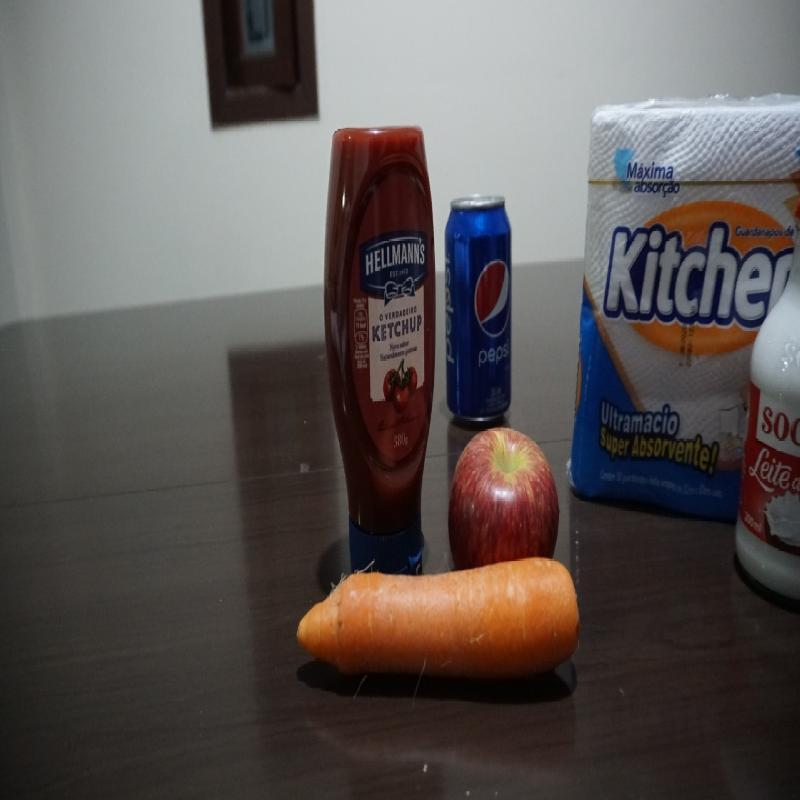Apple: (446, 426, 564, 568)
Carrot: (289, 554, 583, 685)
Coconut Milk: (734, 196, 800, 610)
Ketchup: (320, 116, 438, 582)
Napkin: (568, 95, 800, 532)
Soda can: (443, 186, 516, 428)
